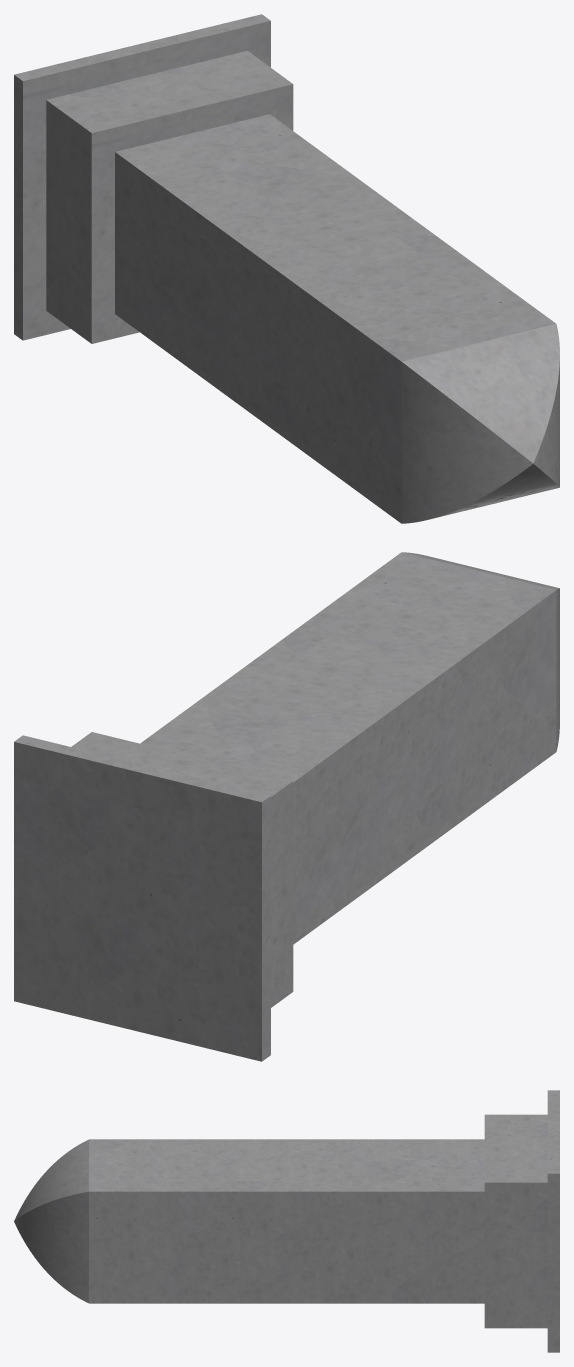
The picture shows the model from 3 angles, top to bottom: view 1: azimuth 30°, elevation 25°; view 2: azimuth 150°, elevation 25°; view 3: azimuth 270°, elevation 25°; orthographic projection. The views are drawn at different scales.
Parts seen in each view (by area): view 1: PA-61-F_LOD0; view 2: PA-61-F_LOD0; view 3: PA-61-F_LOD0.
Part boxes in pixels (bbox=[...]): PA-61-F_LOD0: bbox=[14, 14, 559, 523]; PA-61-F_LOD0: bbox=[14, 552, 559, 1061]; PA-61-F_LOD0: bbox=[14, 1090, 559, 1352].
Size of what is drawn, in the model's own units: 40.64 by 40.64 by 112.
